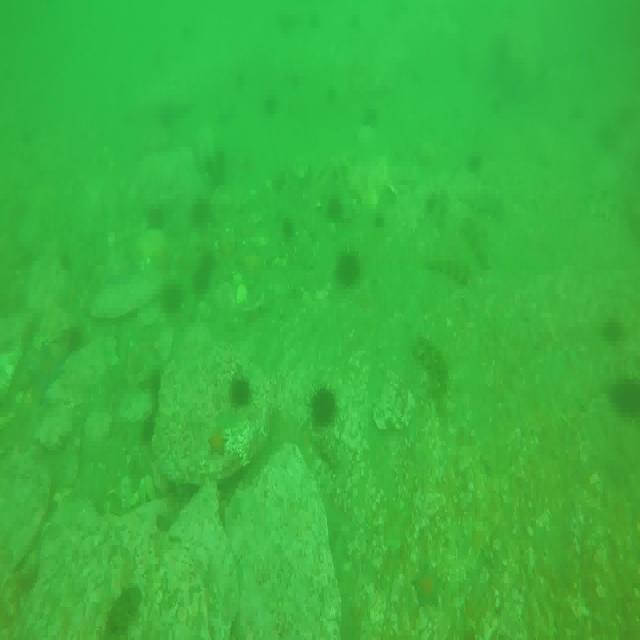echinus: (612, 378, 640, 421), (310, 387, 336, 431), (334, 253, 364, 287), (600, 321, 628, 346), (161, 285, 185, 314), (190, 198, 212, 228), (230, 381, 253, 407), (208, 159, 228, 188), (191, 264, 209, 296), (66, 326, 86, 354), (326, 198, 346, 223), (262, 93, 281, 118), (148, 204, 164, 232), (201, 250, 215, 280), (282, 218, 296, 241), (467, 152, 483, 171), (60, 251, 73, 271)
holothurian: (409, 334, 451, 424), (102, 591, 142, 640), (424, 246, 469, 286), (459, 218, 491, 270)
starfish: (413, 568, 443, 608), (208, 428, 227, 457)
